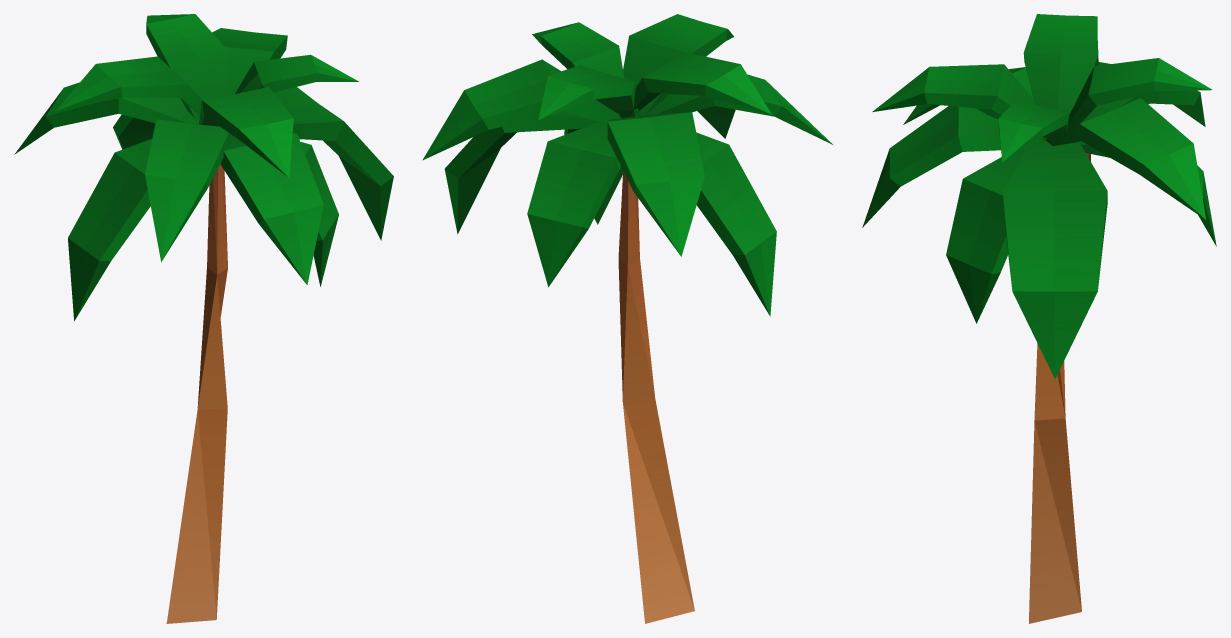
File: GL-Palmtree-03-LOD2.fbx
3 renders of one model, left to right at view 1: azimuth 30°, elevation 25°; view 2: azimuth 150°, elevation 25°; view 3: azimuth 270°, elevation 25°, orthographic. The views are drawn at different scales.
Visible parts, largest first — view 1: GL_Palmtree_03; view 2: GL_Palmtree_03; view 3: GL_Palmtree_03.
Boxes of the visible parts, <box> form: GL_Palmtree_03: <box>14,14,393,623</box>; GL_Palmtree_03: <box>422,14,832,623</box>; GL_Palmtree_03: <box>862,14,1216,623</box>.
Bounding box in the file's own units: 3.29 × 5.47 × 3.12.
